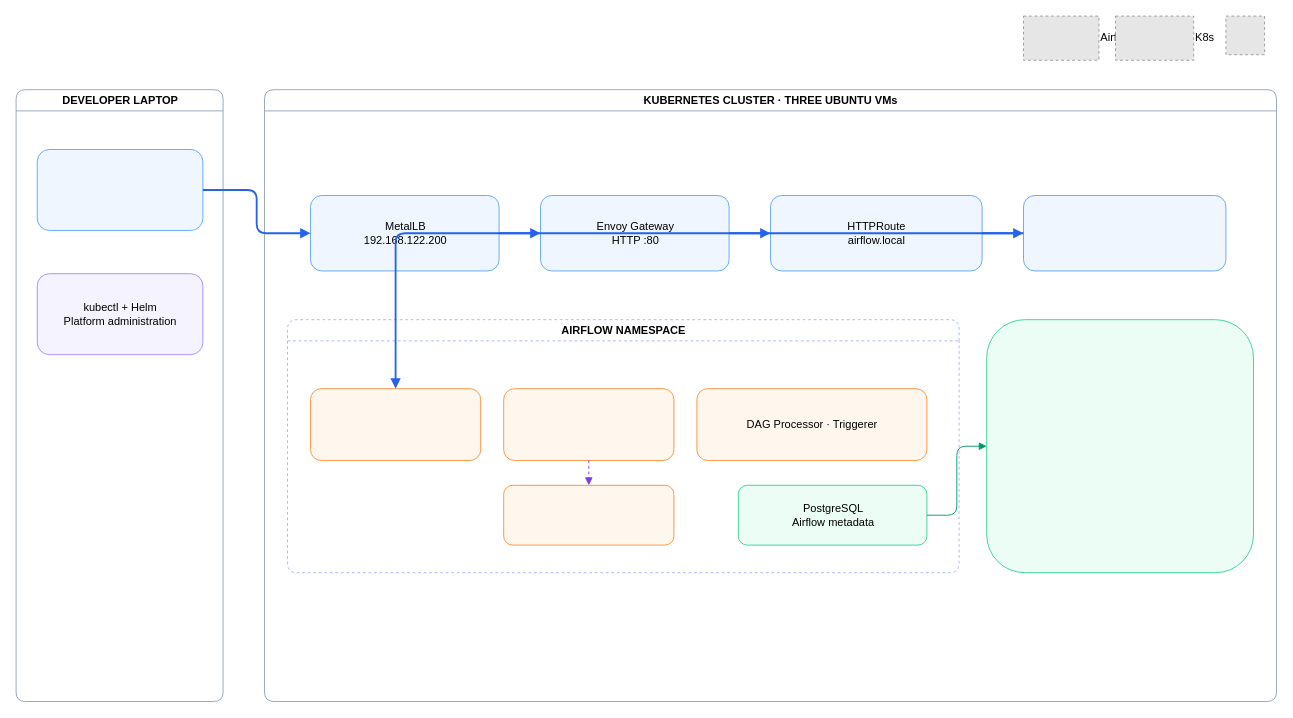
The diagram is 1293 pixels wide and 718 high, and some of its shapes have lost their labels. Grey dashed boxes stand in for pictures. Here are the shapes that lost their labels. From the top down, the centre of each, then its label:
At (x=119, y=189): "Browser airflow.local".
At (x=1124, y=233): "Airflow Service ClusterIP :8080".
At (x=395, y=424): "API Server + UI".
At (x=588, y=424): "Scheduler KubernetesExecutor".
At (x=1120, y=446): "PERSISTENCE 8 GiB PVC · local-path Worker-node filesystem".
At (x=588, y=514): "Temporary task Pods".
